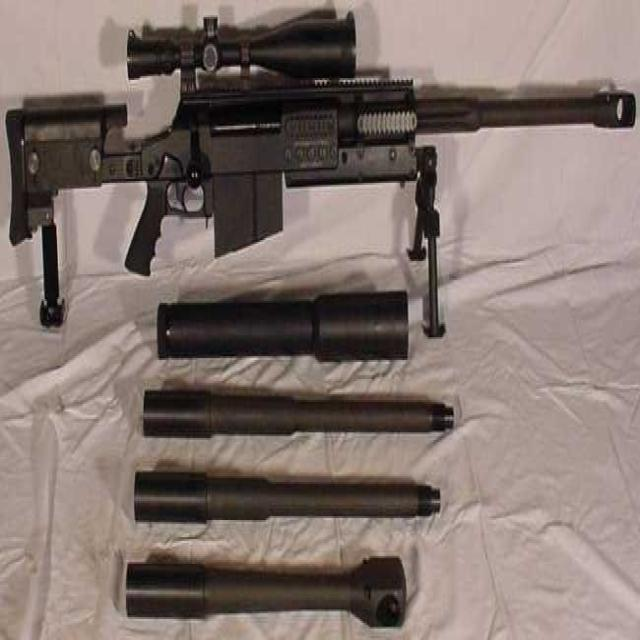heavyweapon: (6, 11, 635, 276)
